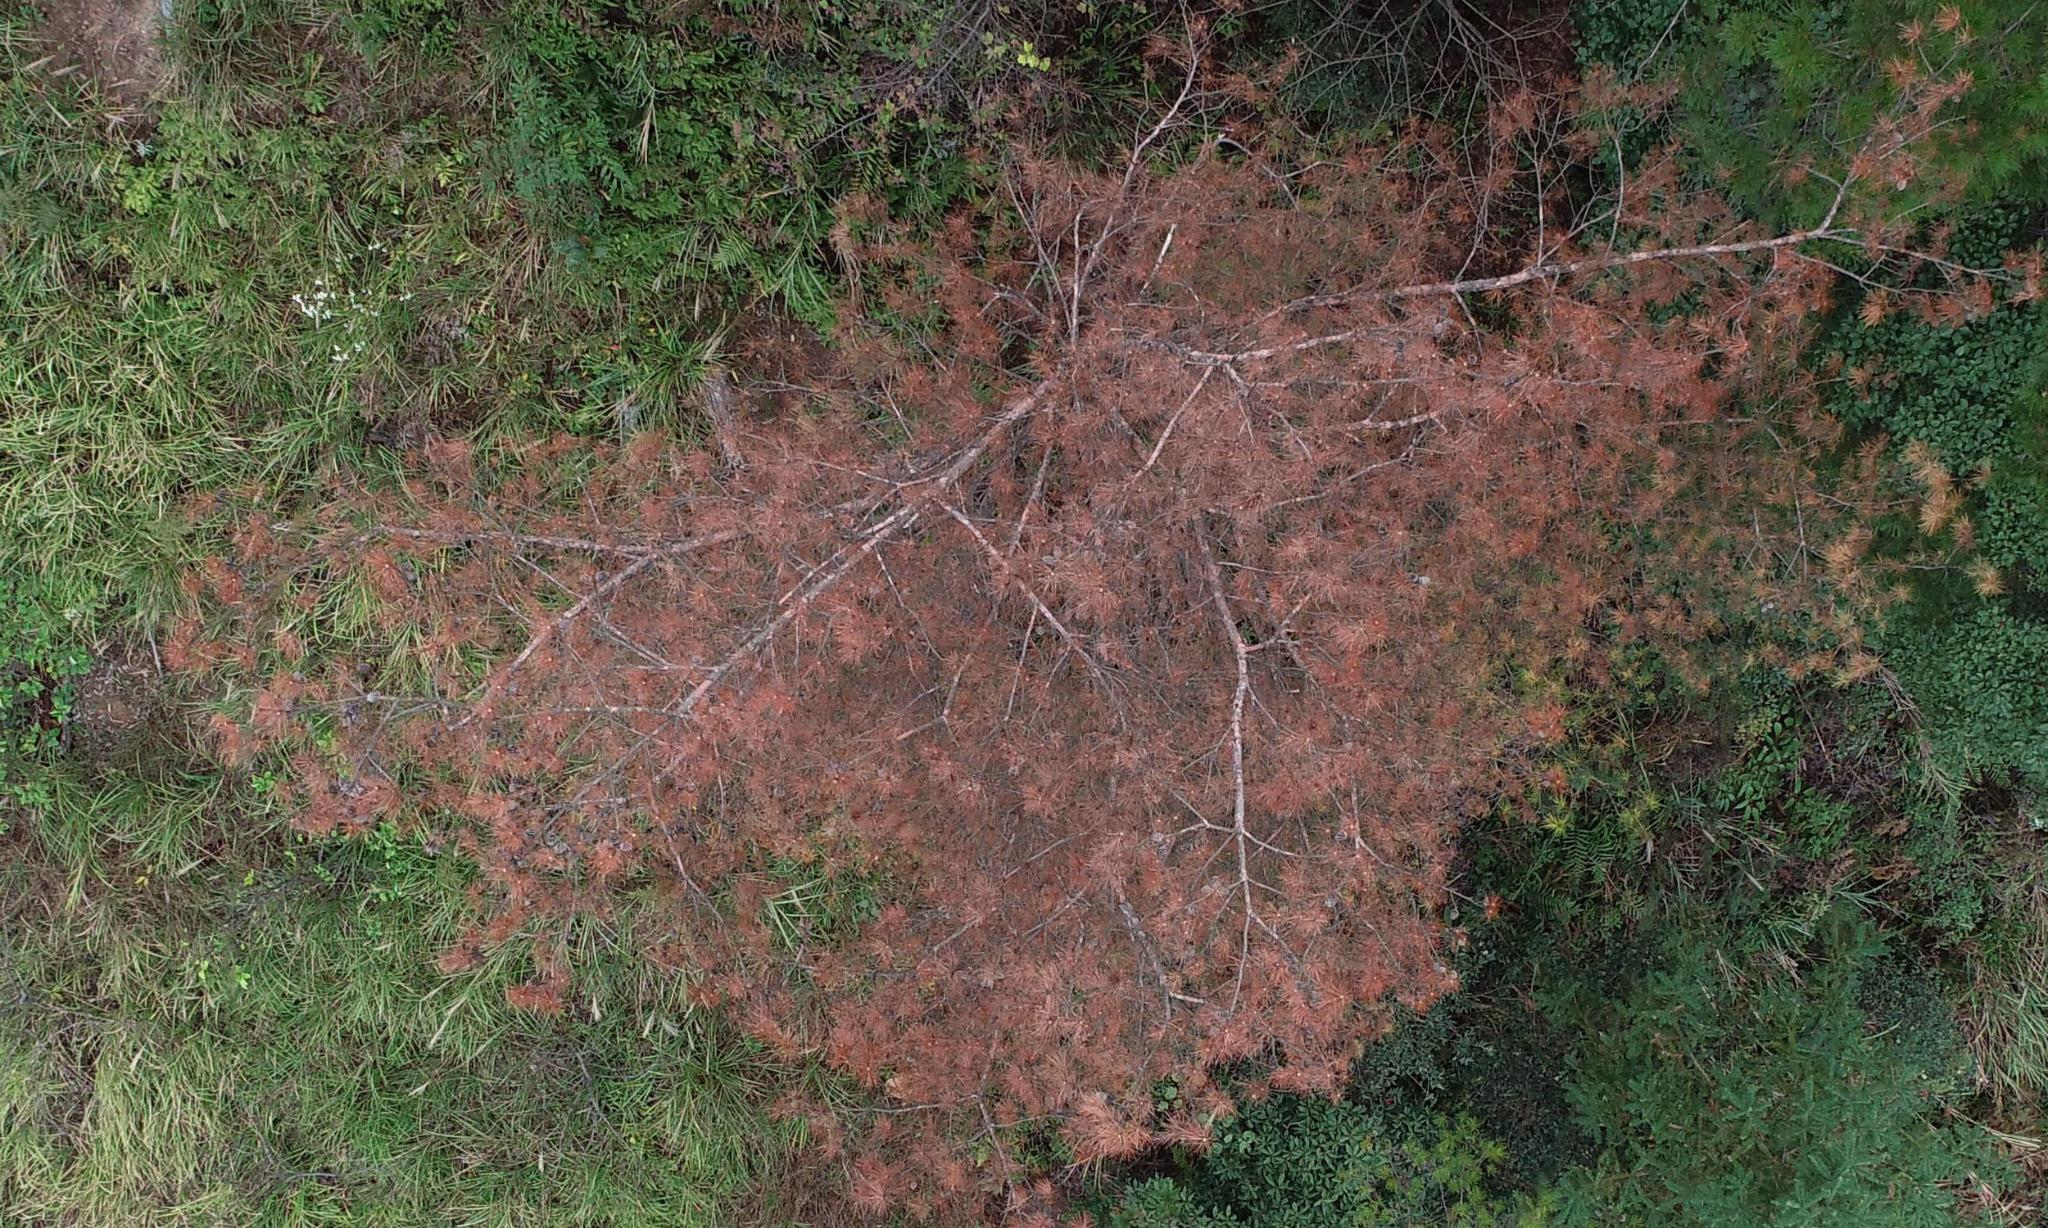heavy: (178, 80, 1590, 1136)
